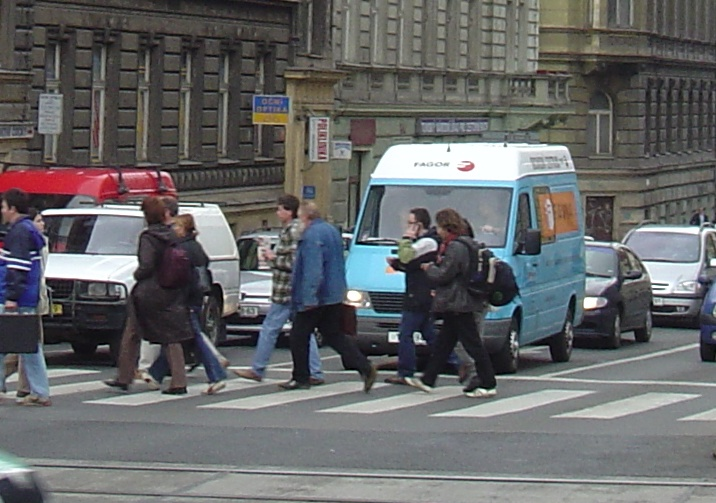person: (120, 192, 187, 398), (282, 197, 350, 392), (421, 207, 487, 398)
